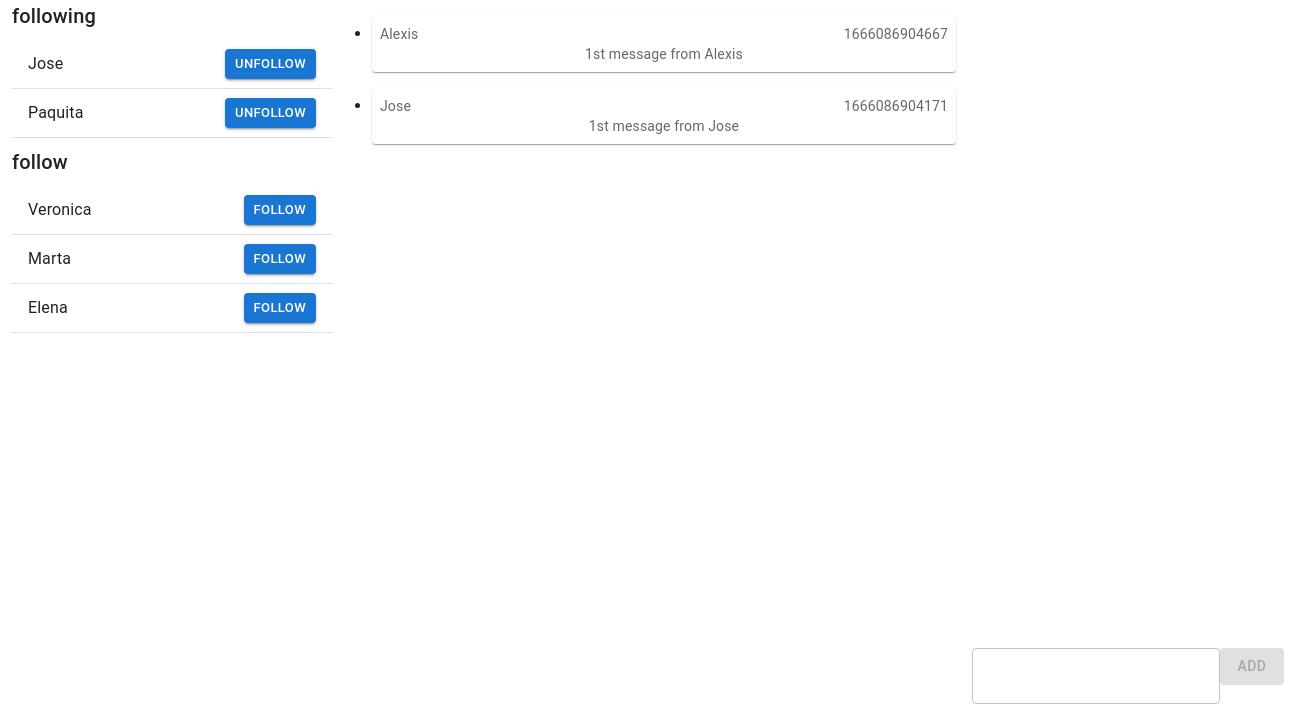
Scenario: dashboard › when a new user is unfollowed › should add the following user into the follow box
The width and height of the screenshot is (1292, 720).
Expected: the text "Jose" below "following" is shown, [28,54,63,73]
Click the button with aria-label "unfollow-Jose" at (271, 64), box [225,49,316,79]
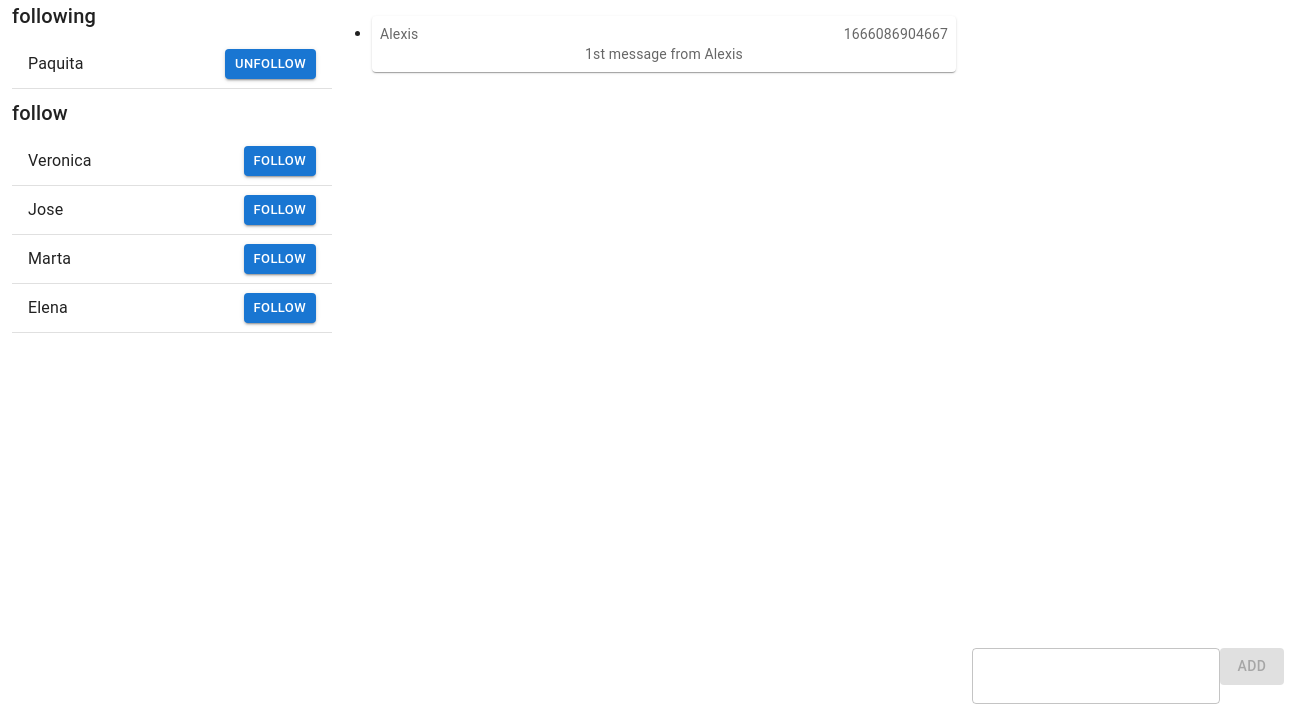
Result: the text "Jose" is shown at [28,200,63,219]
